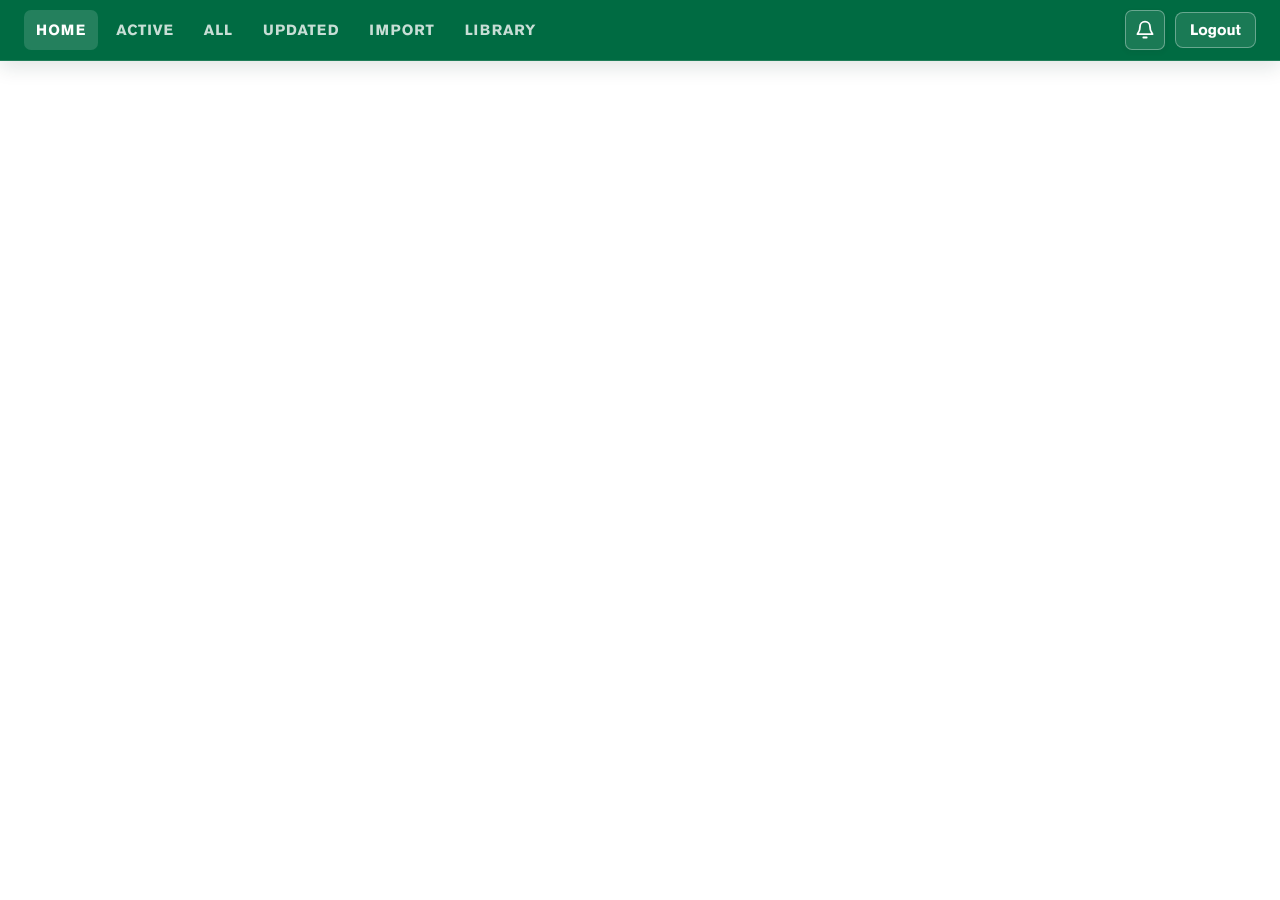
client comment notifications › uses the RLS-scoped comments query and labels the recipient in notifications
Click the button named "Messages and acquisitions": (1145, 30) [1125,10,1165,50]
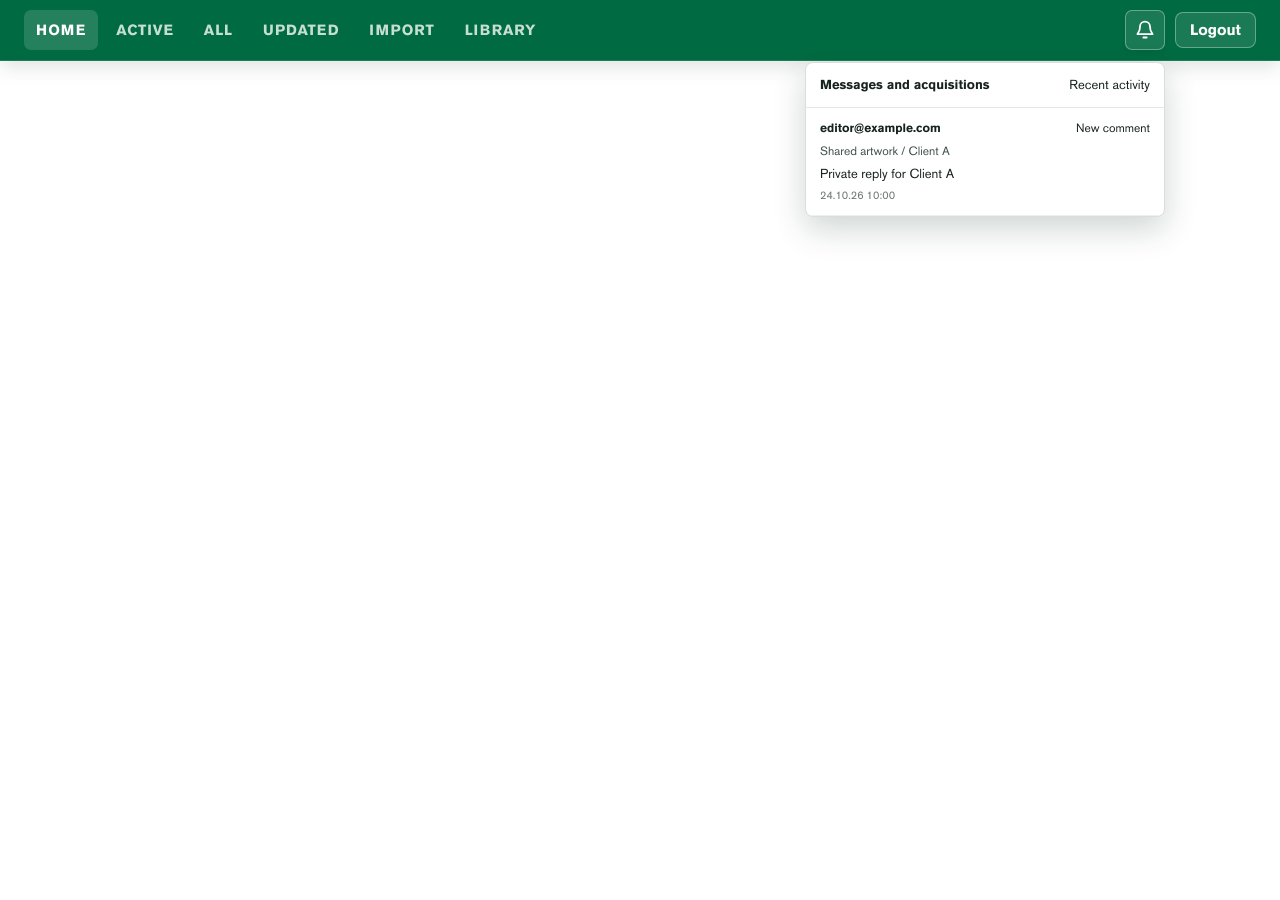
Expected: the text "Private reply for Client A" is shown, [820,166,954,180]
Expected: the text "Client A" is shown, [909,144,950,158]
Expected: the text "Shared artwork" is shown, [820,144,898,158]
